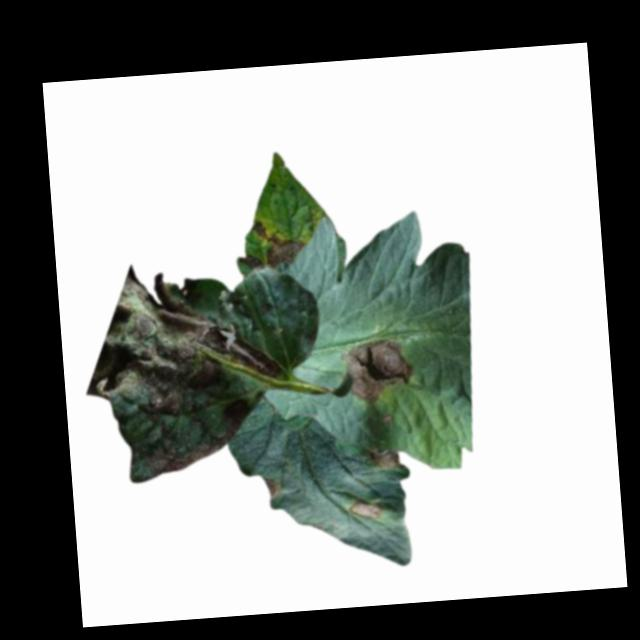Early_blight: (80, 255, 289, 487), (341, 335, 413, 406), (252, 215, 307, 270), (364, 448, 400, 474), (349, 501, 383, 523), (259, 474, 284, 503), (238, 253, 264, 274)
